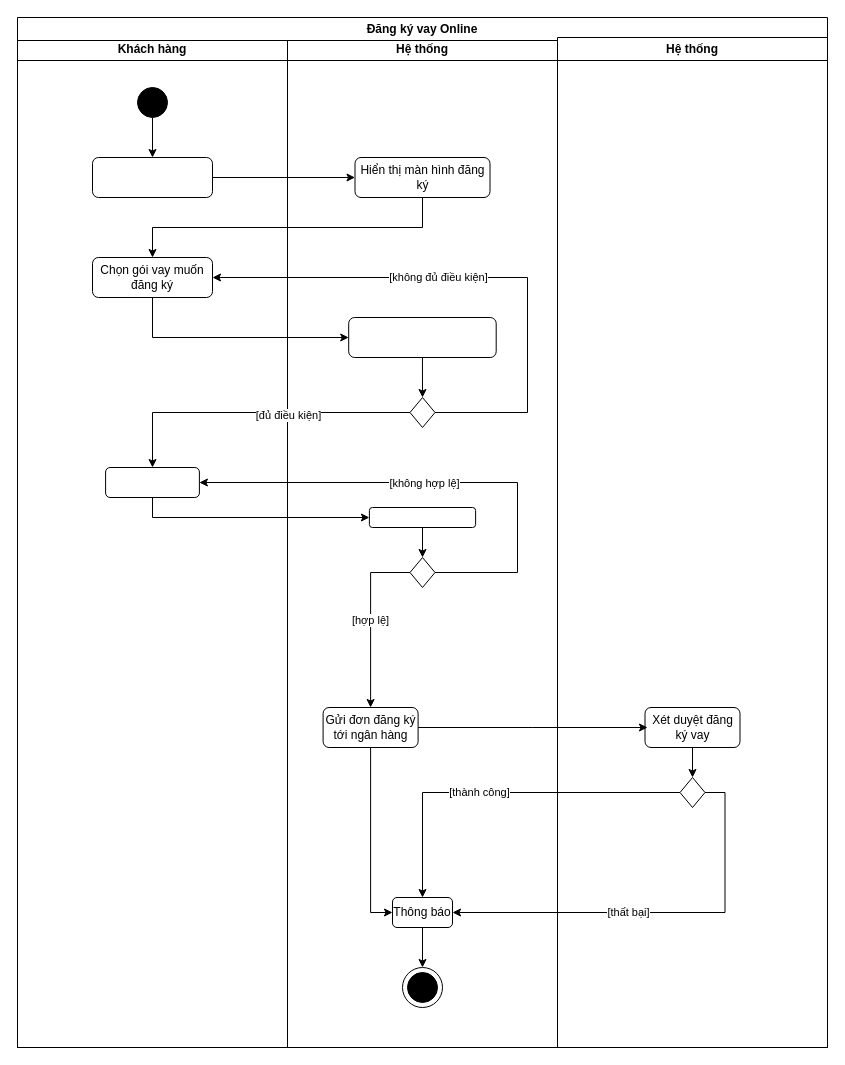
Image size: 845x1065. Some labels were removed from this diagram. The centre of each missing label's shape, as x and y in pixels:
Chọn "Đăng ký vay Online": point (152, 177)
Kiểm tra thông tin: point (422, 517)
Kiểm tra điều kiện đăng ký: point (422, 337)
Điền thông tin đăng ký: point (152, 482)
